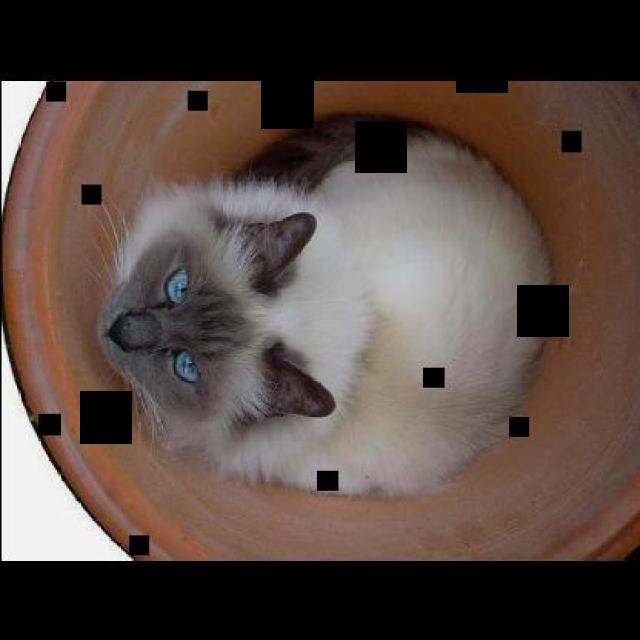unauthorized: (89, 111, 554, 498)
